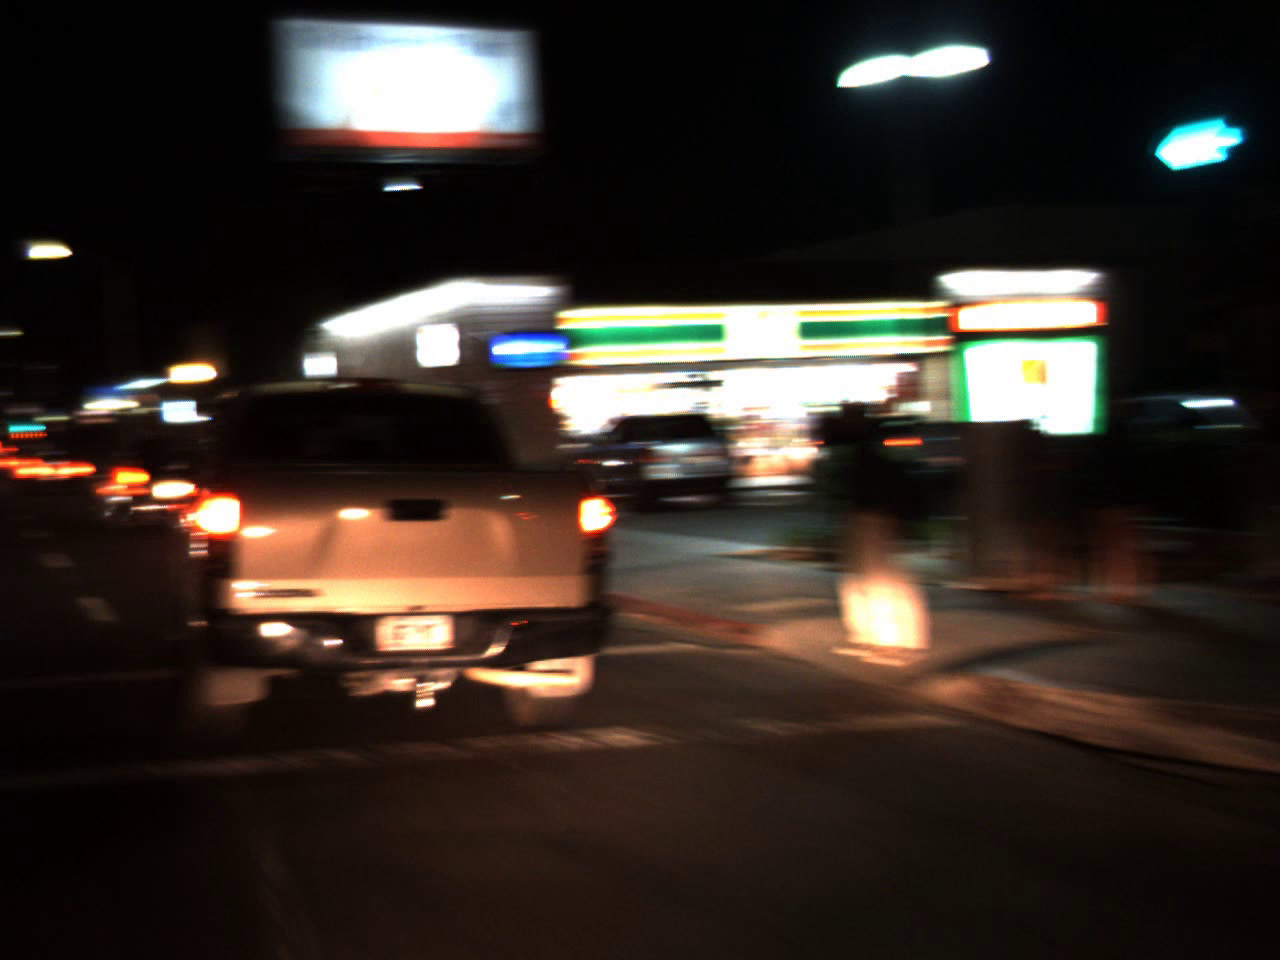go: (1110, 77, 1270, 182)
